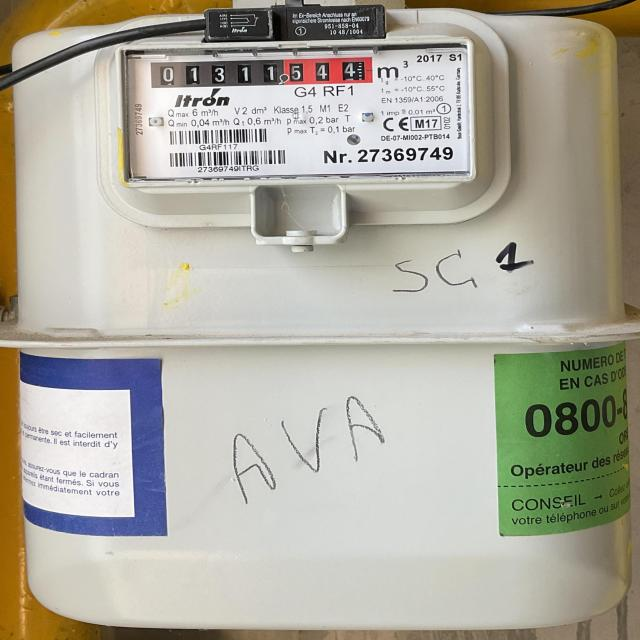gaz_meter: (120, 51, 477, 178)
indication: (149, 56, 376, 90)
